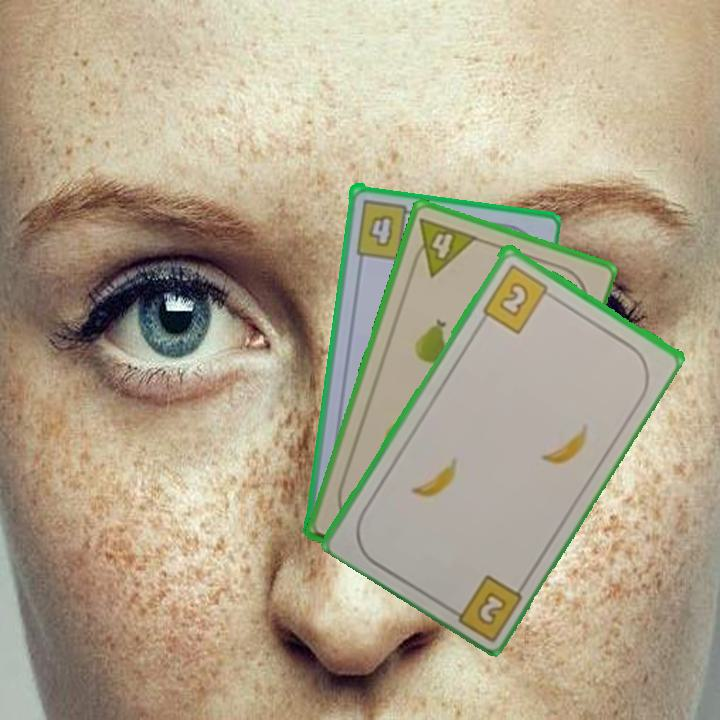2b: (478, 260, 558, 336), (442, 570, 525, 641)
4b: (352, 195, 420, 262)
4p: (406, 214, 480, 279)
